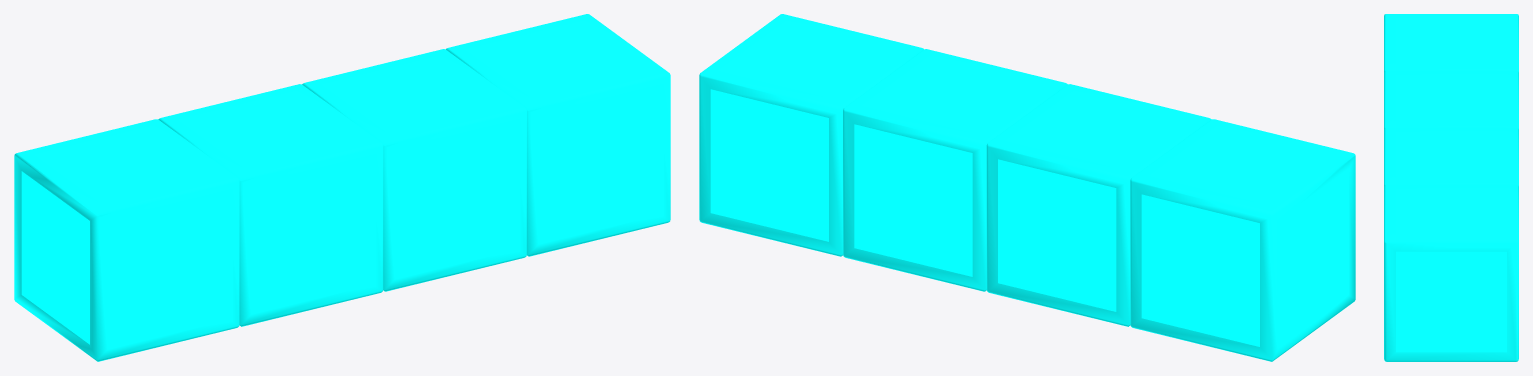
Rendered from I_block.glb.
3 renders of one model, left to right at view 1: azimuth 30°, elevation 25°; view 2: azimuth 150°, elevation 25°; view 3: azimuth 270°, elevation 25°, orthographic. The views are drawn at different scales.
Visible parts, largest first — view 1: FuwaSuisei_Tetris01_FuwaSuiseiItems_0; view 2: FuwaSuisei_Tetris01_FuwaSuiseiItems_0; view 3: FuwaSuisei_Tetris01_FuwaSuiseiItems_0.
Boxes of the visible parts, left/top/right/bottom form: FuwaSuisei_Tetris01_FuwaSuiseiItems_0: left=14, top=14, right=670, bottom=361; FuwaSuisei_Tetris01_FuwaSuiseiItems_0: left=699, top=14, right=1355, bottom=361; FuwaSuisei_Tetris01_FuwaSuiseiItems_0: left=1384, top=14, right=1518, bottom=361.
Size of the model in its own units: 1.66 by 0.4155 by 0.4155.
Materials: 1 (1 with a texture image).
